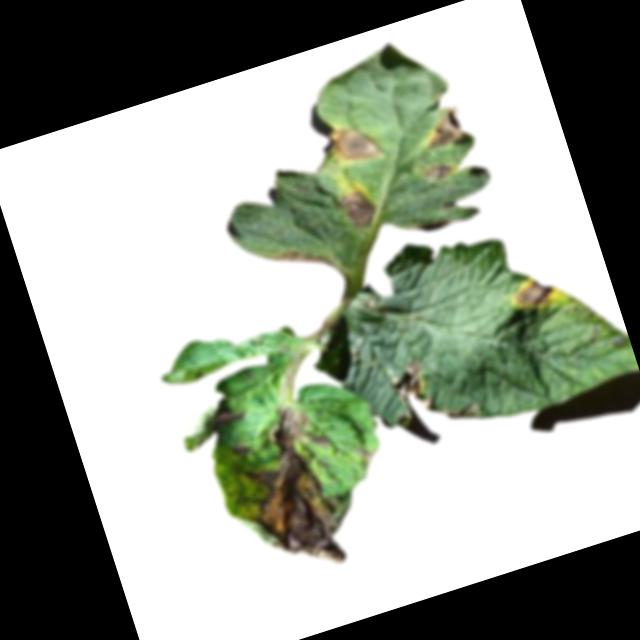Early_blight: (217, 400, 359, 590), (321, 115, 386, 173), (416, 100, 478, 157), (268, 236, 333, 283), (388, 357, 436, 419), (508, 271, 564, 315), (336, 184, 380, 231), (207, 403, 247, 431), (420, 158, 456, 186), (354, 439, 381, 465)
